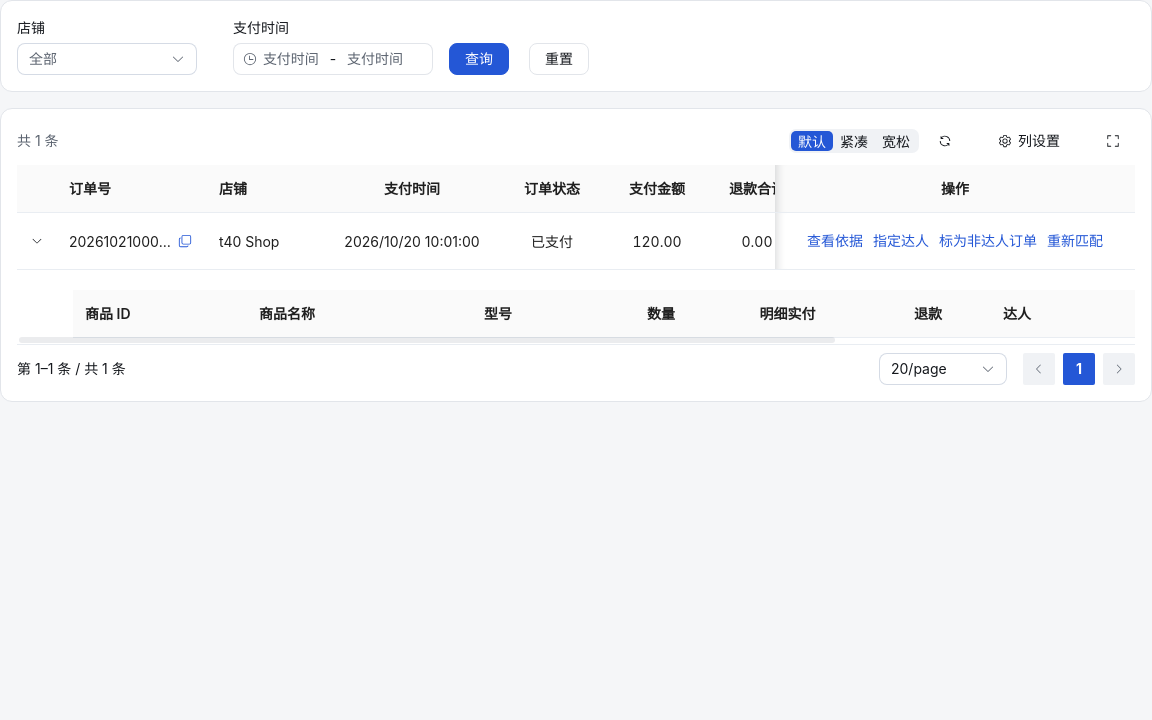
matching pool page (task 40) › offers evidence as the first row action and loads the drawer
Click the button "查看依据": (835, 241) [806, 229, 864, 253]
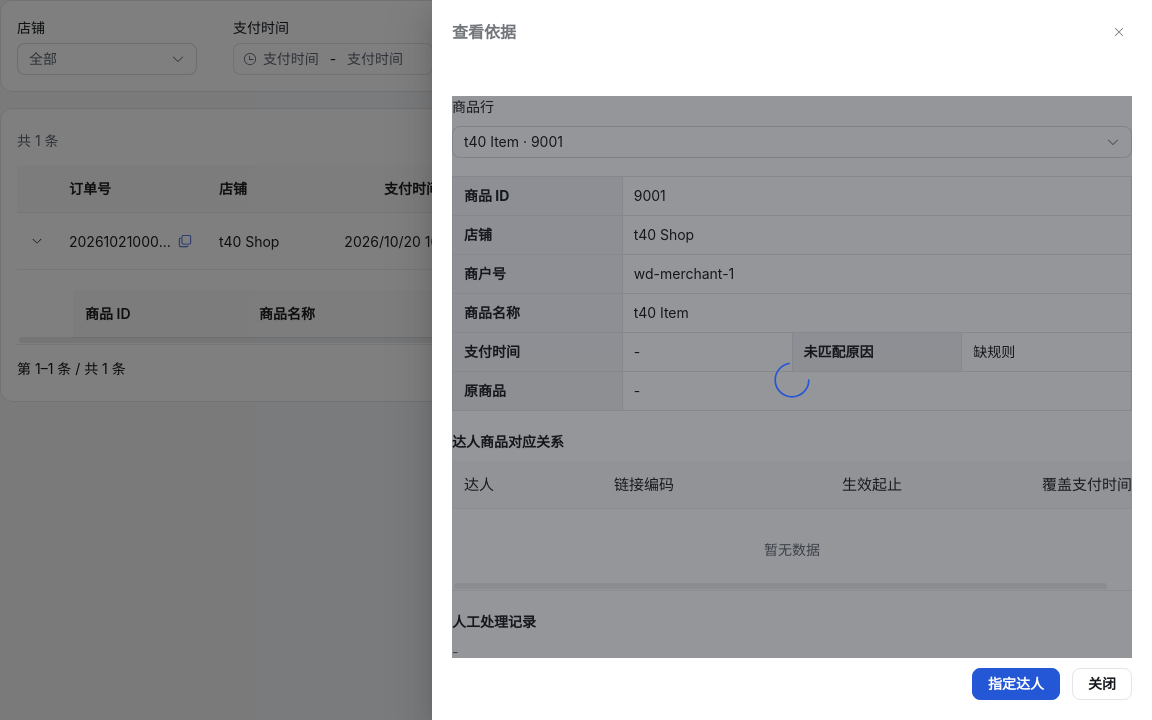
Expected: the element with test id "evidence-basic" is shown, [452, 176, 1132, 411]
